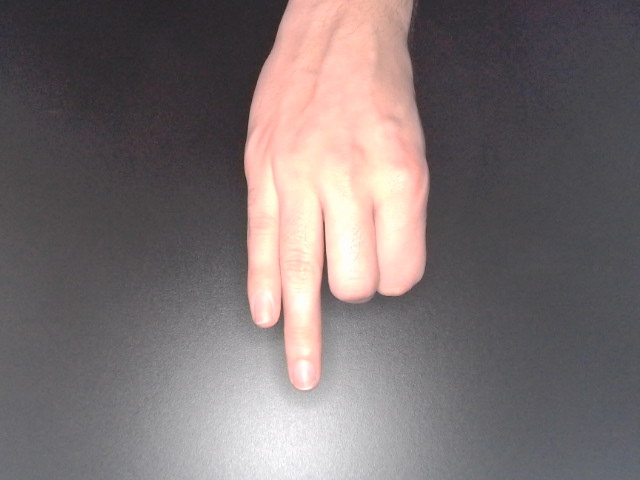n: (238, 2, 433, 398)
